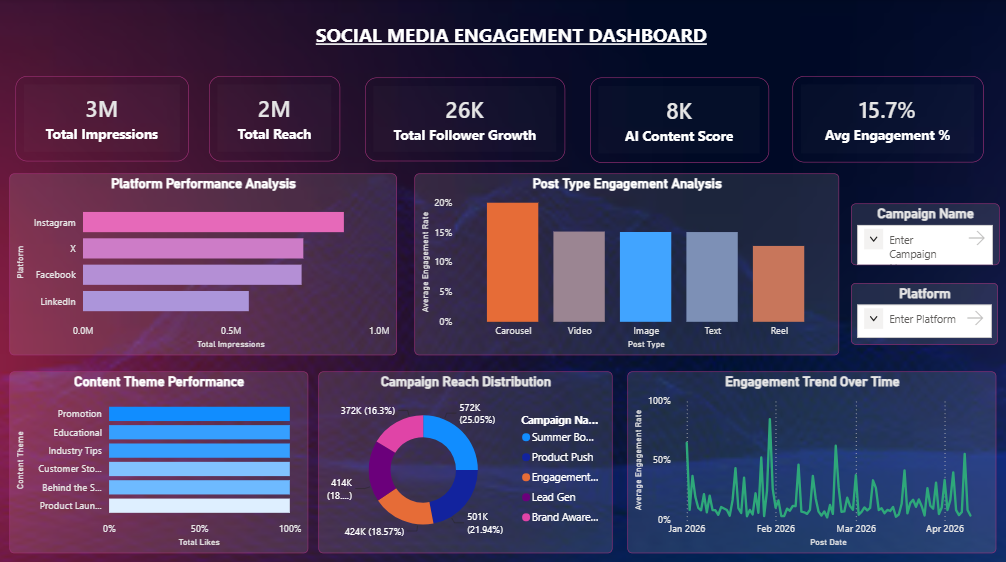

Layout of this report page (visuals, bound fields, positions):
{"tool":"powerbi","page":{"name":"Page 1","canvas":[1280,720],"ordinal":0},"visuals":[{"type":"cardVisual","fields":{"Data":["Social Media Data.Total Reach"]},"box":[270.2,98.3,166.3,107.7],"z":0},{"type":"cardVisual","fields":{"Data":["Sum(Social Media Data.AI Content Score)"]},"box":[752.1,100.2,226.8,107.7],"z":1000},{"type":"cardVisual","fields":{"Data":["Social Media Data.Average Engagement Rate"]},"box":[1007.3,98.3,241.9,109.6],"z":2000},{"type":"cardVisual","fields":{"Data":["Social Media Data.Total Follower Growth"]},"box":[466.8,100.2,253.2,105.8],"z":3000},{"type":"cardVisual","fields":{"Data":["Social Media Data.Total Impressions"]},"box":[24.6,98.3,219.2,107.7],"z":4000},{"type":"clusteredBarChart","title":"Platform Performance Analysis","fields":{"Category":["Social Media Data.Platform"],"Y":["Social Media Data.Total Impressions"]},"box":[17.1,222.1,489.7,229.7],"z":5000},{"type":"clusteredColumnChart","title":"Post Type Engagement Analysis","fields":{"Category":["Social Media Data.Post Type"],"Y":["Social Media Data.Average Engagement Rate"]},"box":[529.6,222.1,537.2,229.7],"z":6000},{"type":"hundredPercentStackedBarChart","title":"Content Theme Performance","fields":{"Category":["Social Media Data.Content Theme"],"Y":["Social Media Data.Total Likes"]},"box":[17.1,472.6,377.7,229.7],"z":7000},{"type":"donutChart","title":"Campaign Reach Distribution","fields":{"Y":["Social Media Data.Total Reach"],"Category":["Social Media Data.Campaign Name"]},"box":[408.1,472.6,372,229.7],"z":8000},{"type":"lineChart","title":"Engagement Trend Over Time","fields":{"Category":["Social Media Data.Post Date"],"Y":["Social Media Data.Average Engagement Rate"]},"box":[799.1,472.6,467,229.7],"z":9000},{"type":"textSlicer","fields":{"Values":["Social Media Data.Platform"]},"box":[1082,360.7,186,77.8],"z":10000},{"type":"textSlicer","fields":{"Values":["Social Media Data.Campaign Name"]},"box":[1082,260.1,187.9,77.8],"z":12000},{"type":"textbox","box":[24.6,24.6,1254.8,58.6],"z":12001}]}

Visuals, with their boxes in screenshot pixels (x1, y1, x2, y2), scaled from the page's 1280x720 canvas onto the 1006x562 screenshot:
cardVisual - Social Media Data.Total Reach: 212, 77, 343, 161
cardVisual - Sum(Social Media Data.AI Content Score): 591, 78, 769, 162
cardVisual - Social Media Data.Average Engagement Rate: 792, 77, 982, 162
cardVisual - Social Media Data.Total Follower Growth: 367, 78, 566, 161
cardVisual - Social Media Data.Total Impressions: 19, 77, 192, 161
"Platform Performance Analysis" clusteredBarChart: 13, 173, 398, 353
"Post Type Engagement Analysis" clusteredColumnChart: 416, 173, 838, 353
"Content Theme Performance" hundredPercentStackedBarChart: 13, 369, 310, 548
"Campaign Reach Distribution" donutChart: 321, 369, 613, 548
"Engagement Trend Over Time" lineChart: 628, 369, 995, 548
textSlicer - Social Media Data.Platform: 850, 282, 997, 342
textSlicer - Social Media Data.Campaign Name: 850, 203, 998, 264
textbox: 19, 19, 1005, 65
